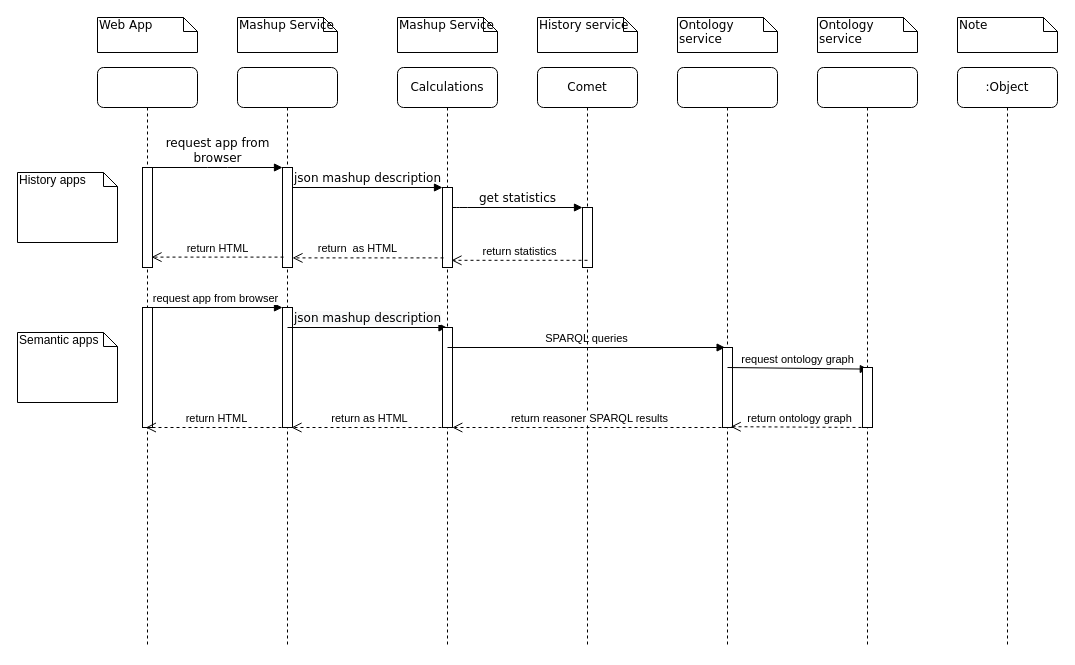
This 1075x665 diagram has some shape labels left out. The box of each missing label's shape, as (x1, y1, x2, y2) in pixels:
Jena API: (676, 66, 778, 648)
Node-RED: (236, 66, 338, 648)
User interface: (96, 66, 198, 648)
Virtuoso graph: (816, 66, 918, 648)
